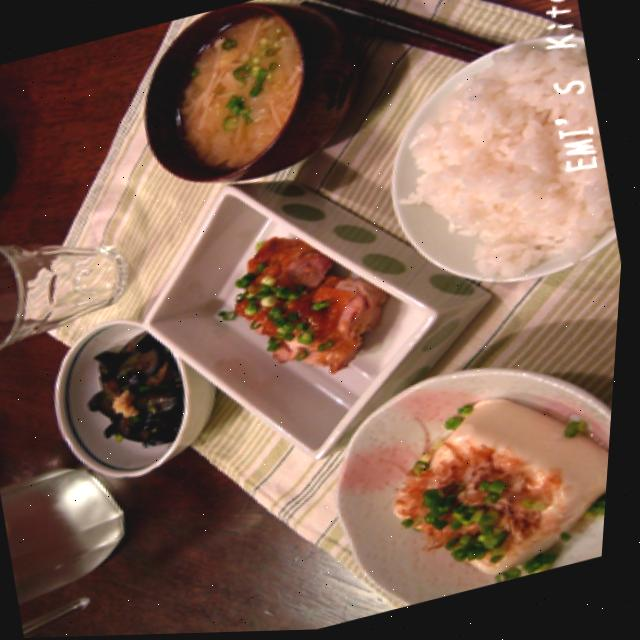鸡蛋料理: (17, 286, 224, 511)
